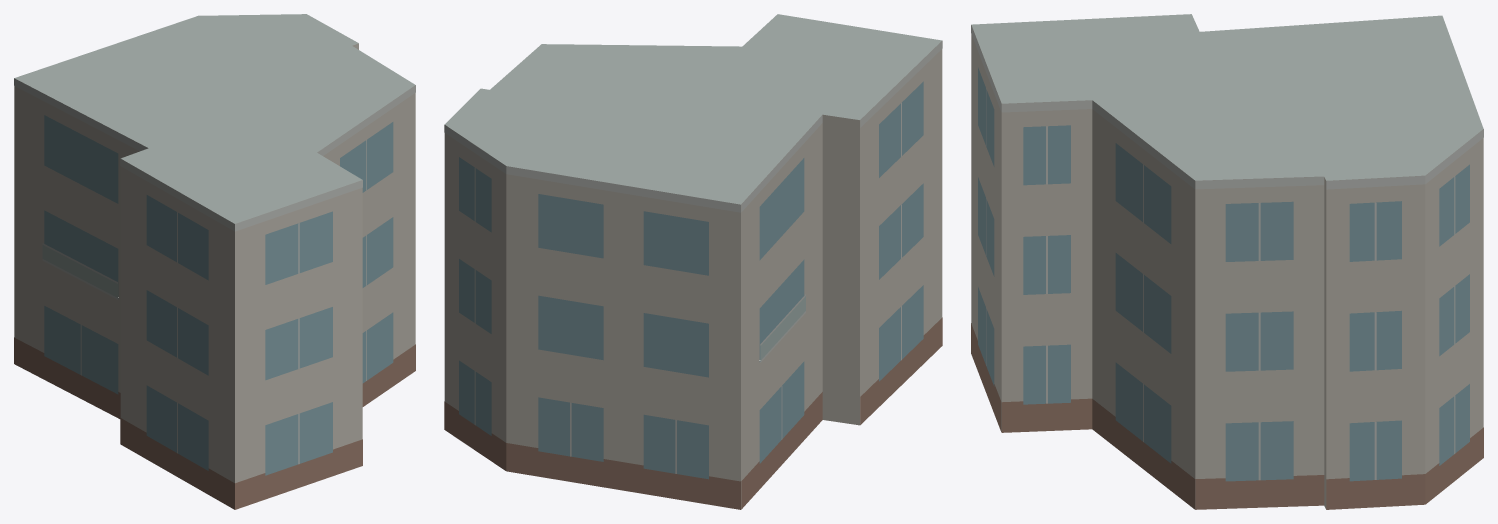
File: survey-upis-32658484.glb
3 renders of one model, left to right at view 1: azimuth 30°, elevation 25°; view 2: azimuth 150°, elevation 25°; view 3: azimuth 270°, elevation 25°, orthographic. The views are drawn at different scales.
Parts seen in each view (by area): view 1: survey-upis-32658484.tmp; view 2: survey-upis-32658484.tmp; view 3: survey-upis-32658484.tmp.
Part boxes in pixels (<box>): survey-upis-32658484.tmp: <box>14,14,415,509</box>; survey-upis-32658484.tmp: <box>444,14,942,509</box>; survey-upis-32658484.tmp: <box>971,14,1483,509</box>.
Bounding box in the file's own units: 9.96 × 9.15 × 12.93.
